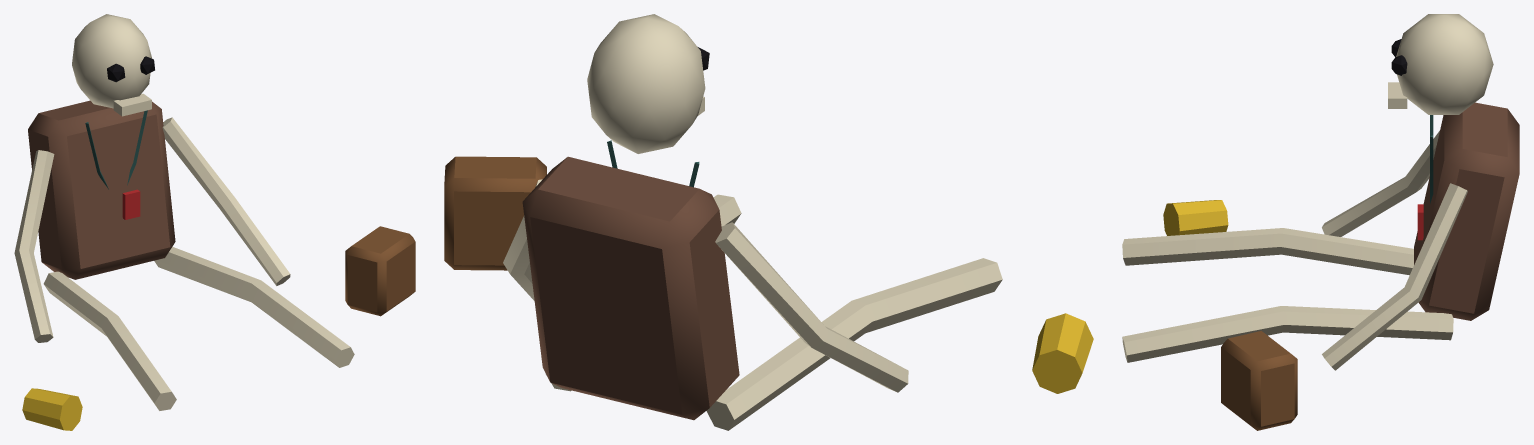
File: remains.glb
3 renders of one model, left to right at view 1: azimuth 30°, elevation 25°; view 2: azimuth 150°, elevation 25°; view 3: azimuth 270°, elevation 25°, orthographic. The views are drawn at different scales.
Parts seen in each view (by area): view 1: remains; view 2: remains; view 3: remains.
Part boxes in pixels (x1,y1,x2,y2): remains: [14, 14, 415, 430]; remains: [444, 14, 1093, 430]; remains: [1122, 14, 1519, 430].
Size of the model in its own units: 1.38 by 0.9129 by 1.03.
